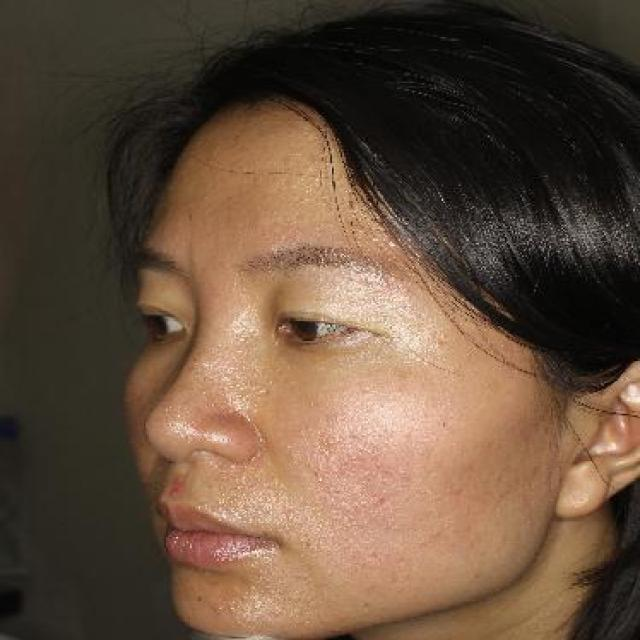blackheads: (296, 210, 308, 222)
whiteheads: (383, 466, 399, 479), (416, 538, 431, 550), (224, 604, 238, 616), (258, 600, 270, 611), (289, 571, 303, 580), (401, 431, 414, 440), (445, 486, 455, 497), (284, 197, 296, 206), (361, 386, 371, 396), (417, 409, 428, 418), (416, 448, 426, 457), (366, 406, 377, 414), (342, 523, 353, 531), (397, 451, 409, 458), (455, 485, 467, 492), (240, 605, 252, 612), (361, 429, 370, 438), (342, 457, 351, 465), (351, 432, 359, 440), (361, 423, 368, 431)
